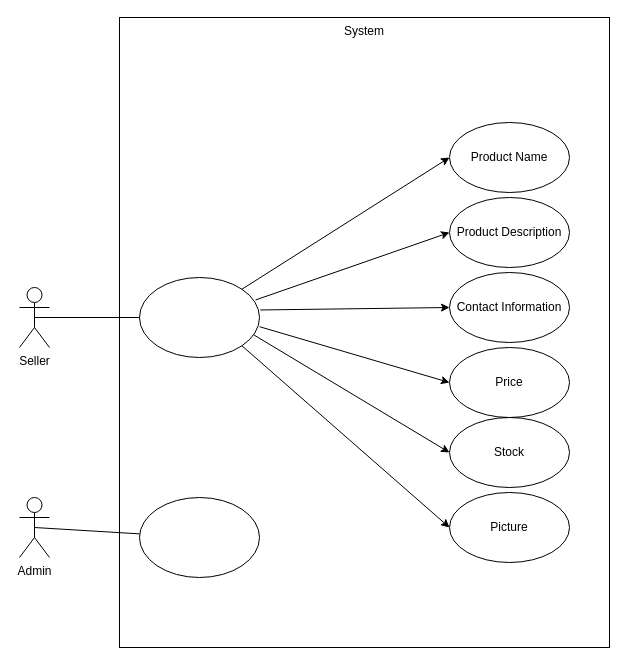
Image size: 627x665. Some labels were removed from this diagram. The box of each missing label's shape, as (x1, y1, x2, y2) in pixels:
Create New Listing: (138, 276, 260, 358)
Review Listing: (138, 496, 260, 578)
